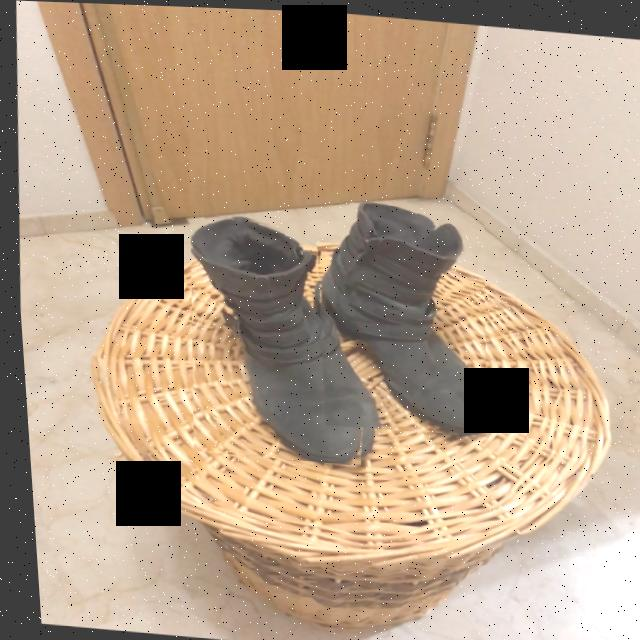shoe: (188, 217, 359, 463), (315, 202, 481, 433)
